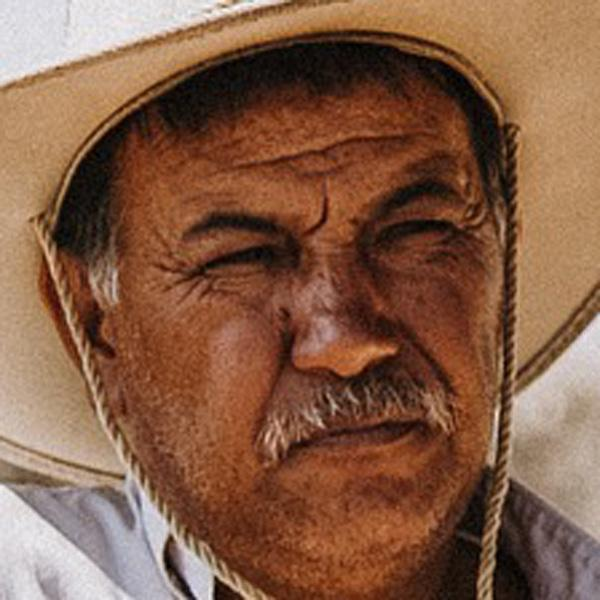Eyes: (366, 199, 468, 262), (188, 234, 285, 291)
